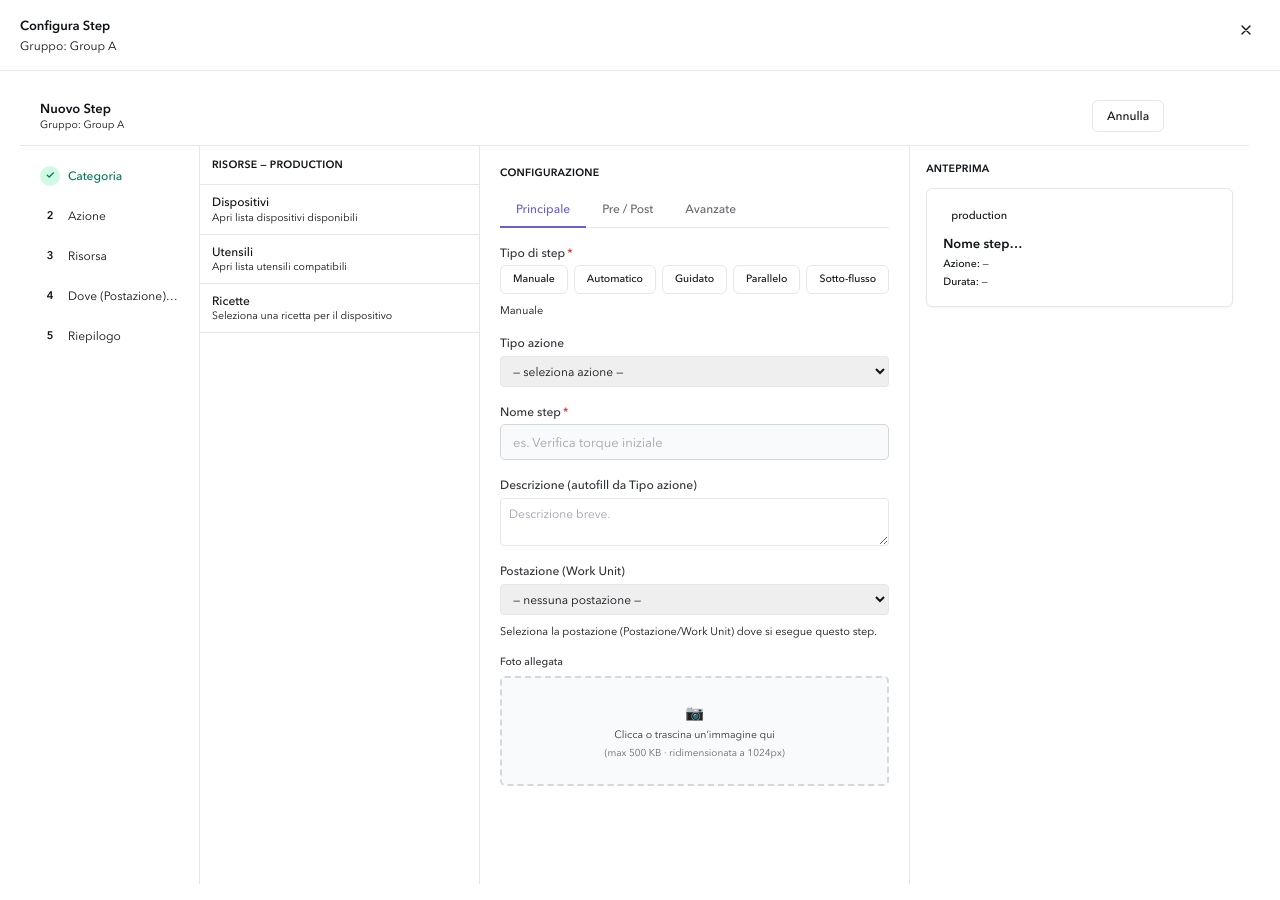
Test case: StepConfiguratorPane › renders preview pane with title and category
Type "My Step" into the field with test id "step-name-input". click: (695, 442)
box: [500,424,889,460]
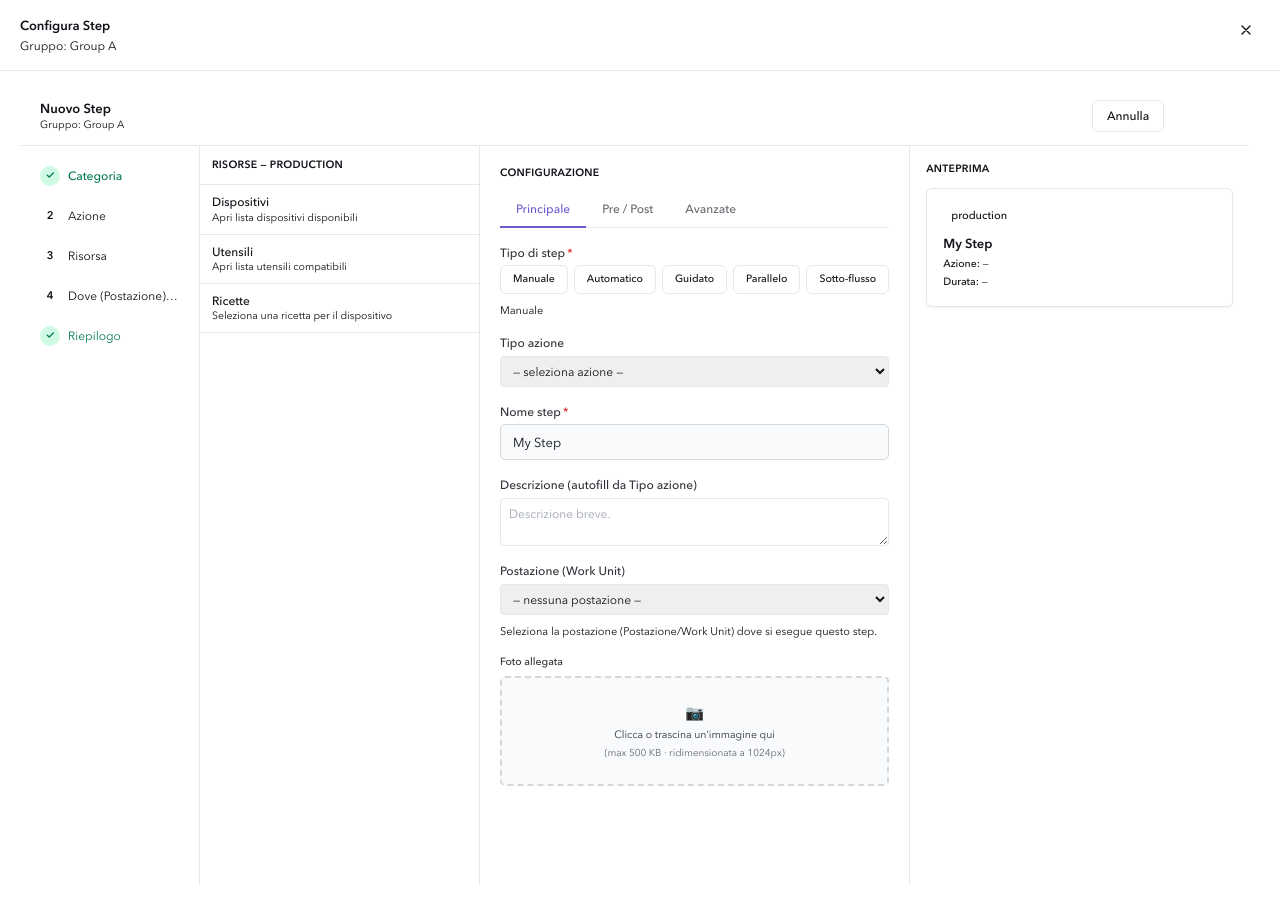
expect the heading with test id "preview-title" reads "My Step": met, box [943,235,993,251]
